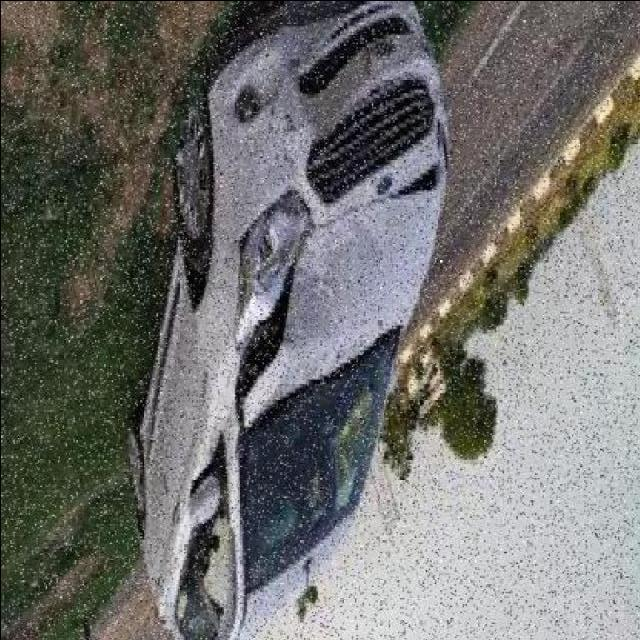bonnet-dent: (216, 193, 439, 400)
front-bumper-dent: (204, 30, 365, 194)
